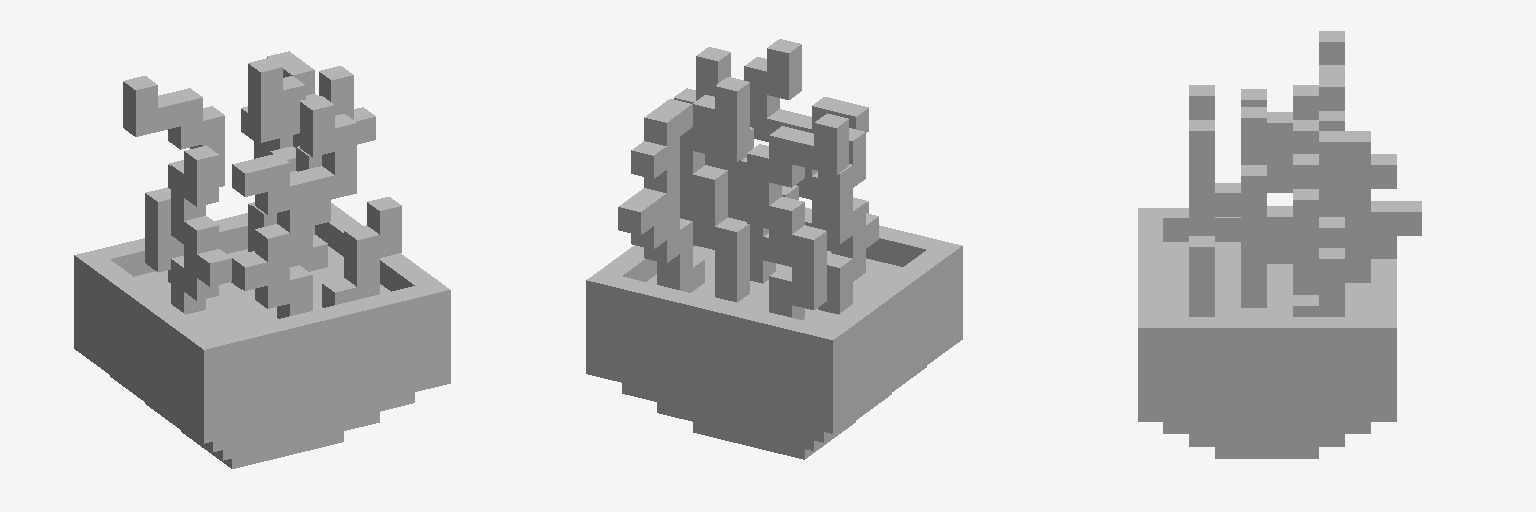
The model's file is Flower Pot.obj.
3 renders of one model, left to right at view 1: azimuth 30°, elevation 25°; view 2: azimuth 150°, elevation 25°; view 3: azimuth 270°, elevation 25°, orthographic.
Visible parts, largest first — view 1: object 1; view 2: object 1; view 3: object 1.
Part boxes in pixels (left/top/right/bottom): object 1: left=74, top=51, right=450, bottom=468; object 1: left=586, top=39, right=962, bottom=459; object 1: left=1138, top=31, right=1421, bottom=458.
Bounding box in the file's own units: 1.1 × 1.5 × 1.1.